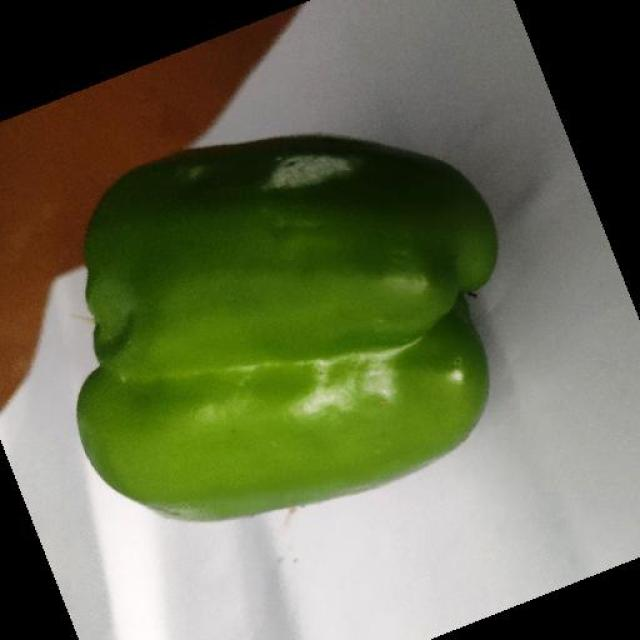Stale_Capsicum: (182, 124, 398, 257)
